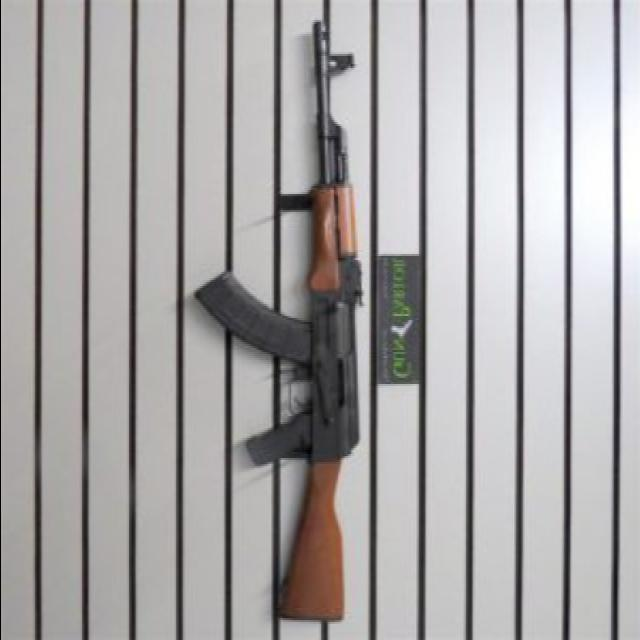rifle: (199, 11, 385, 640)
